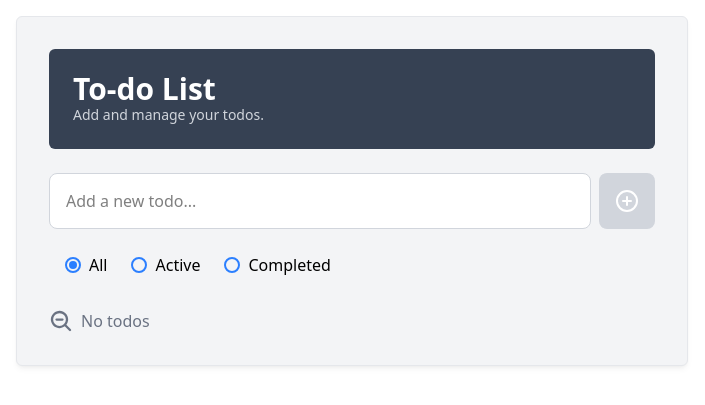
Todo App › should add a new todo item when submitted
This screenshot has width=705, height=405.
Type "Buy a car" into the field with test id "input-field" at (320, 201), box [49,173,591,229]
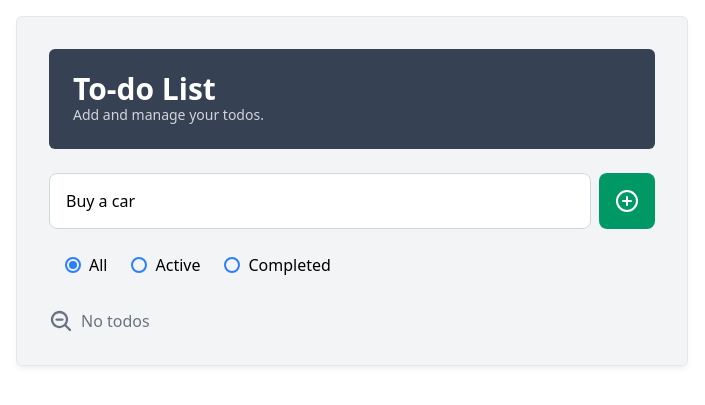
Click the button with test id "submit-button" at (627, 201), box [599,173,655,229]
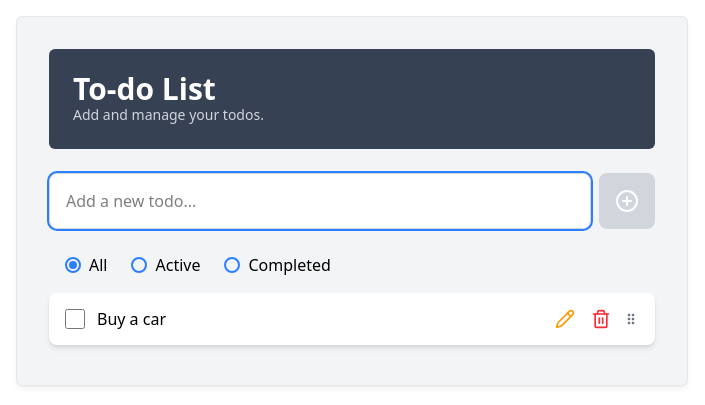
Check: the text "Buy a car" is shown, box [97,308,166,330]
Check: the field with test id "input-field" is empty, box [49,173,591,229]
